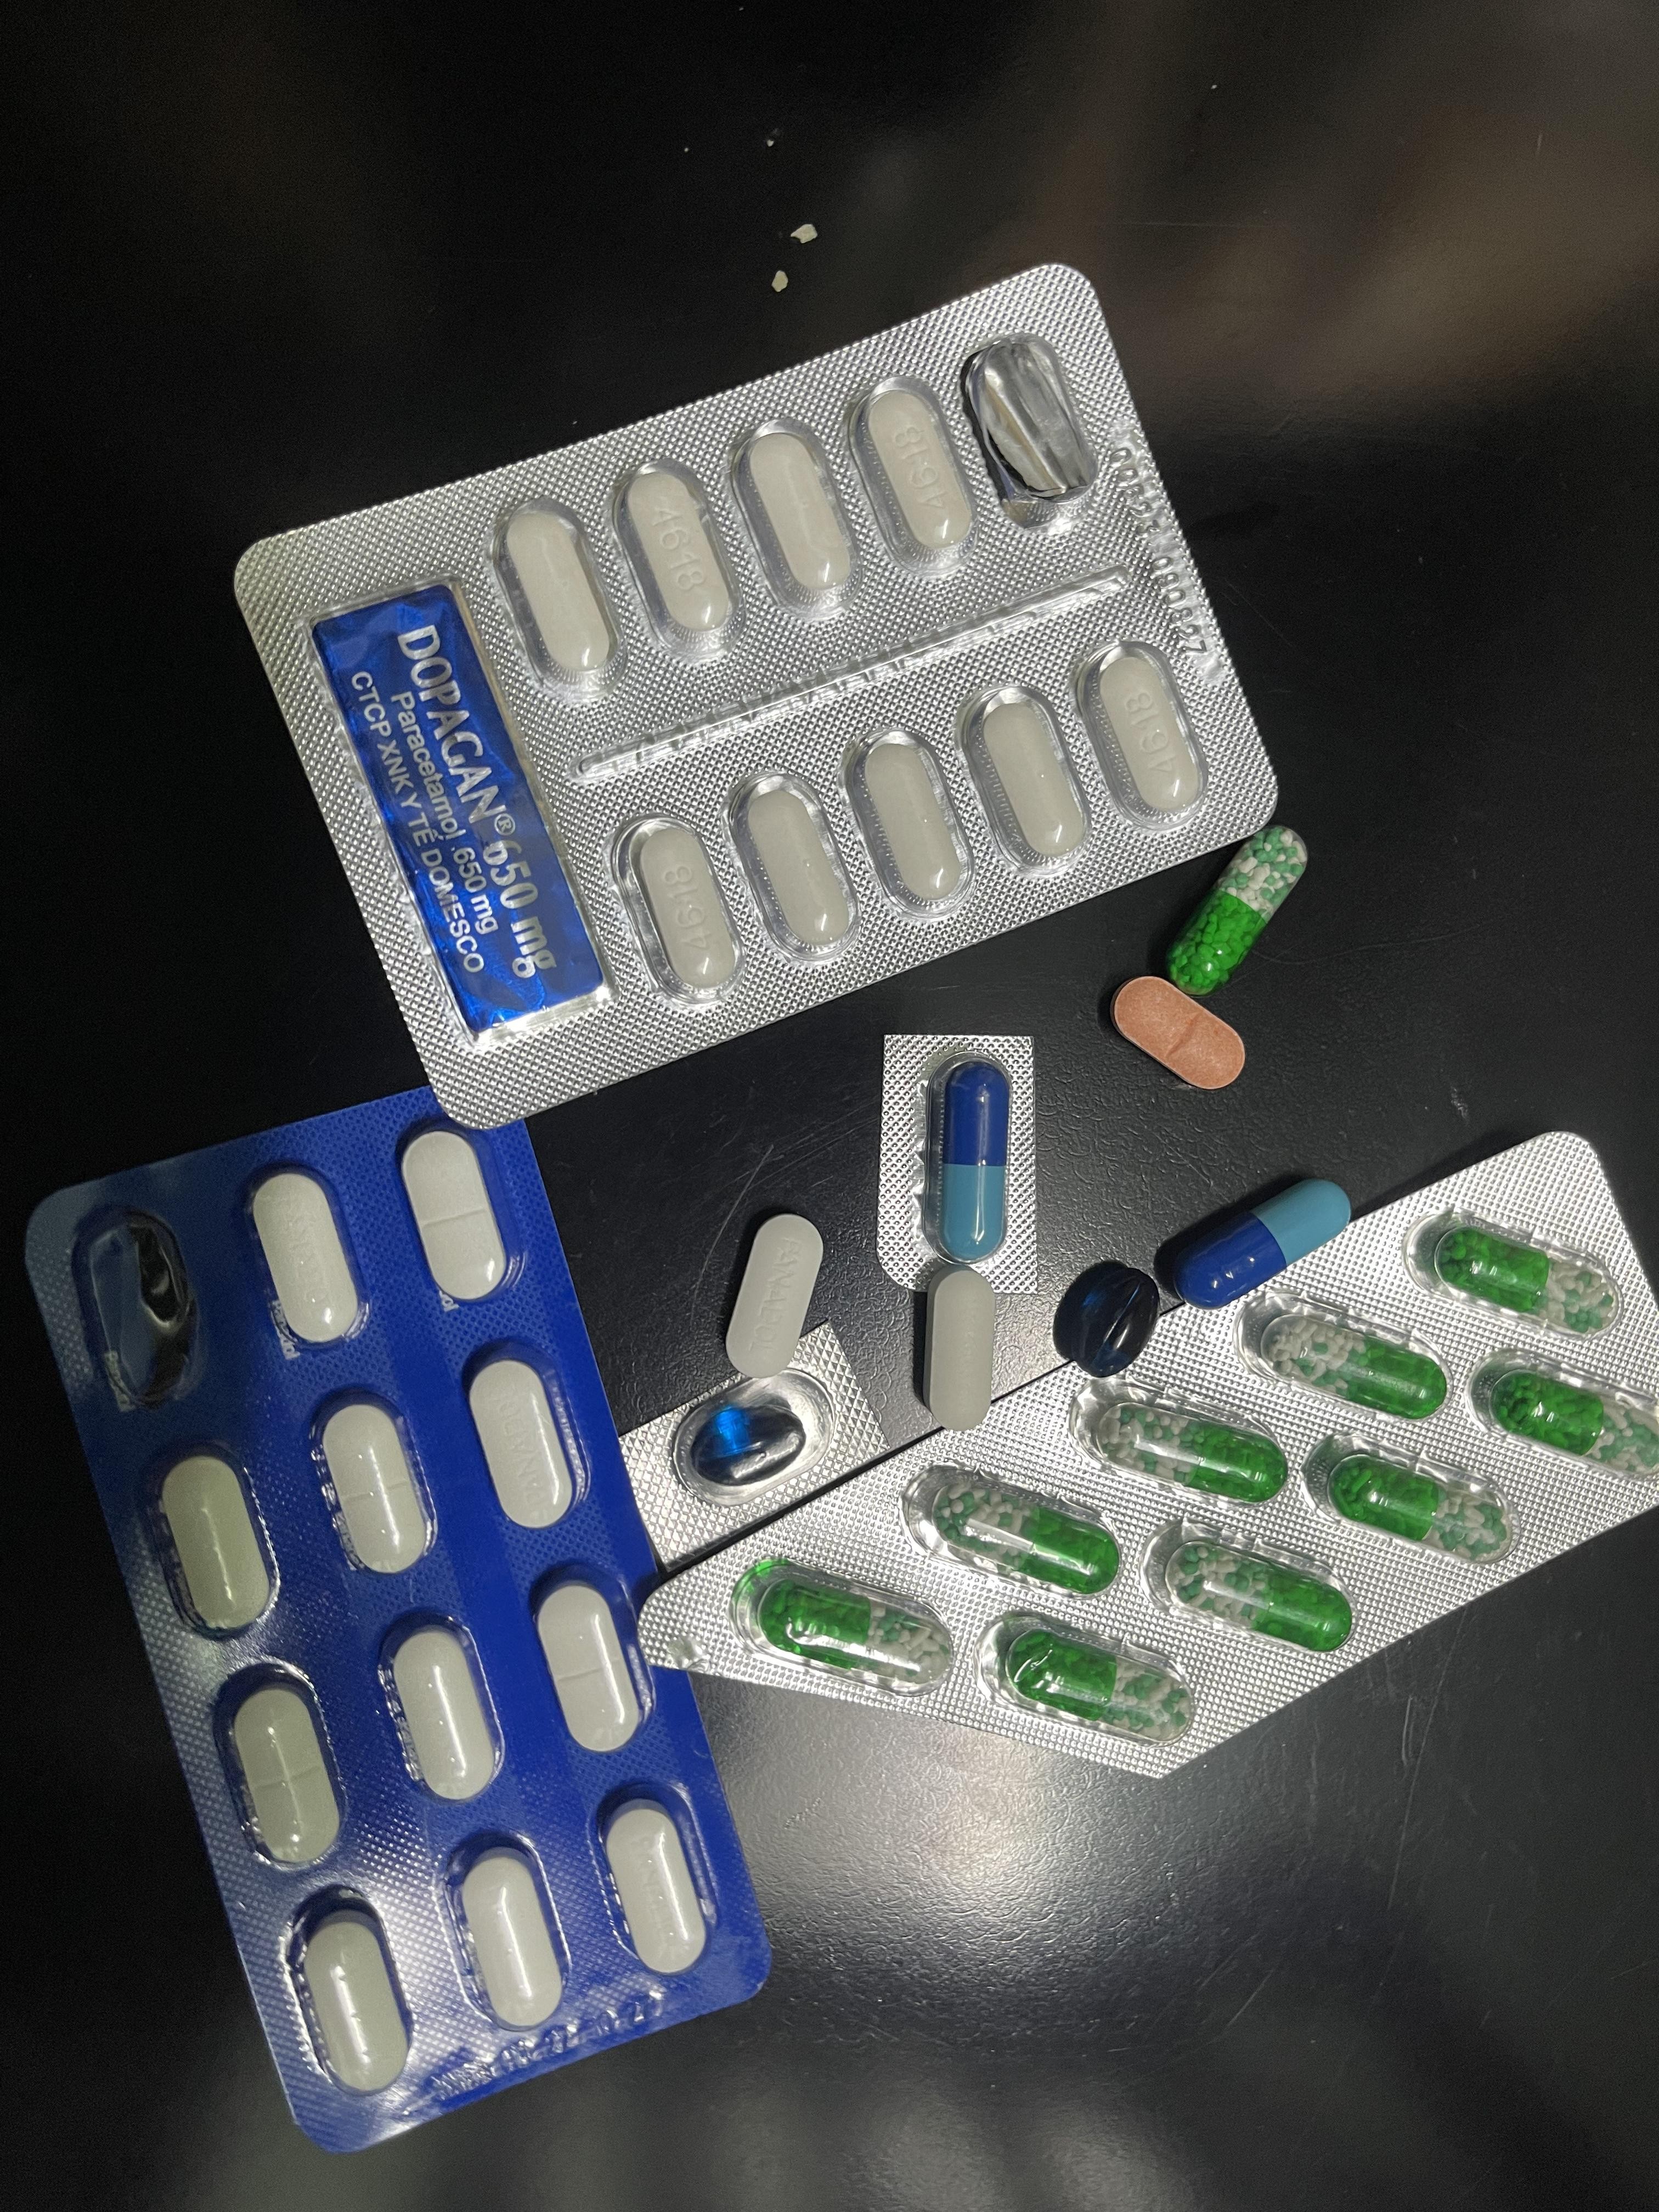Lincomyxin_500mg: (1053, 1261, 1157, 1376), (690, 1399, 803, 1484)
Loratadine_10mg: (1114, 977, 1246, 1089)
Paracetamol_350mg: (225, 1681, 349, 1869), (293, 1904, 413, 2095), (310, 1392, 436, 1575), (157, 1449, 277, 1635), (387, 1620, 505, 1804), (453, 1846, 568, 2029), (247, 1169, 362, 1346), (467, 1350, 580, 1529), (599, 1797, 711, 1979), (533, 1575, 647, 1752), (401, 1130, 509, 1306), (723, 1216, 824, 1379)
Paracetamol_500mg: (850, 374, 979, 573), (490, 502, 622, 695), (612, 462, 741, 660), (958, 681, 1089, 876), (730, 421, 857, 622), (843, 725, 972, 920), (727, 770, 857, 961), (610, 813, 741, 1003), (1073, 641, 1204, 829), (920, 1263, 997, 1426)
Paracetamol_650mg: (735, 1557, 943, 1691), (908, 1463, 1119, 1594), (1300, 1433, 1507, 1566), (986, 1609, 1188, 1740), (1161, 829, 1304, 996), (1162, 1540, 1354, 1653), (1434, 1224, 1612, 1329), (1488, 1372, 1657, 1477), (1269, 1318, 1446, 1418), (1115, 1411, 1288, 1500)
pill: (1162, 1172, 1347, 1305), (925, 1061, 1011, 1259)
